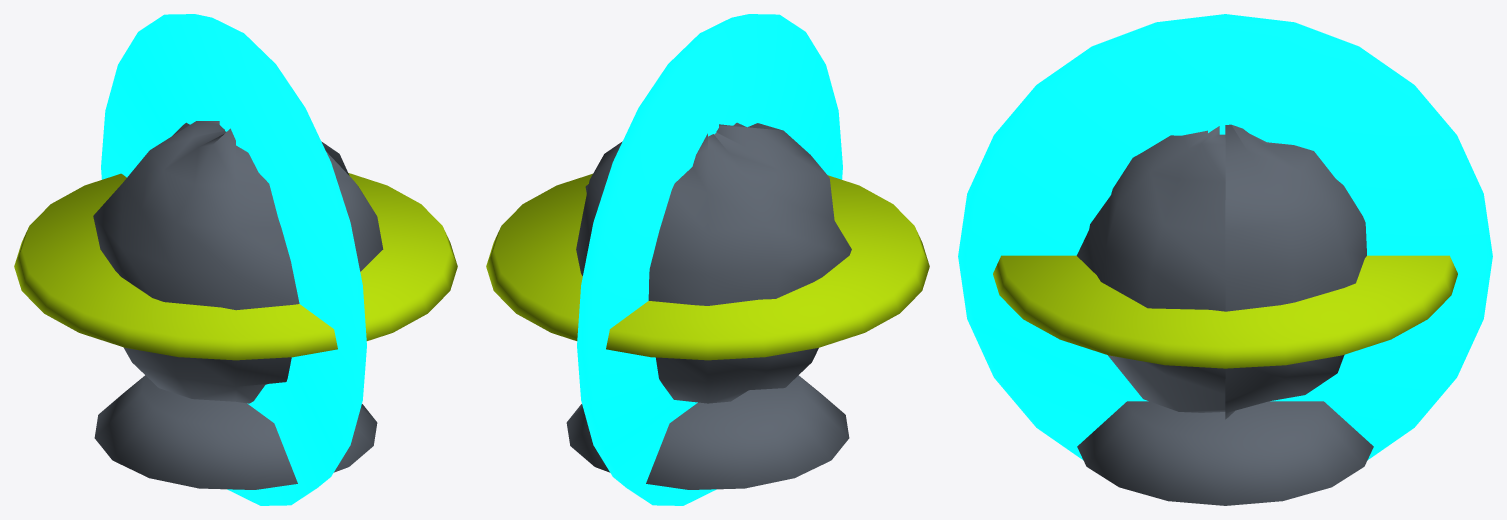
3 views of the same model, side by side, from view 1: azimuth 30°, elevation 25°; view 2: azimuth 150°, elevation 25°; view 3: azimuth 270°, elevation 25° (orthographic). The views are drawn at different scales.
Parts seen in each view (by area): view 1: GeneratedObject3D; view 2: GeneratedObject3D; view 3: GeneratedObject3D.
Boxes of the visible parts, box(x1,y1,x2,y2) form: GeneratedObject3D: box(14, 14, 457, 505); GeneratedObject3D: box(486, 14, 929, 505); GeneratedObject3D: box(958, 14, 1492, 505).
Bounding box in the file's own units: 2.8 × 3.2 × 3.2.
